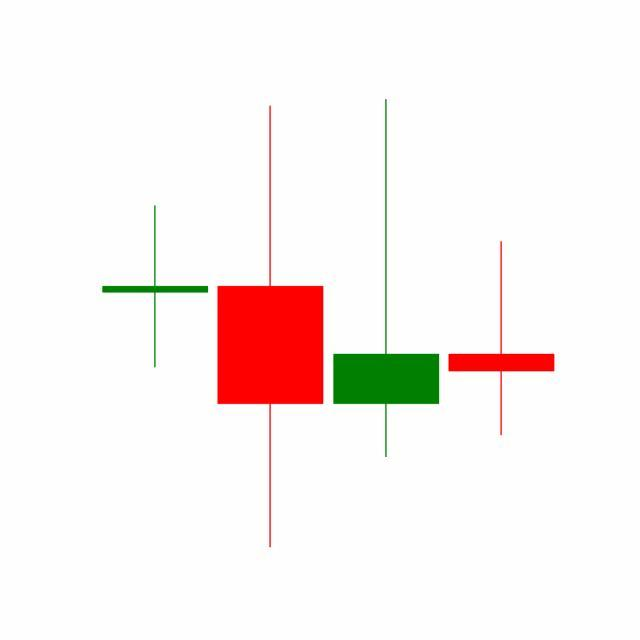Spinning Top: (444, 239, 560, 438)
